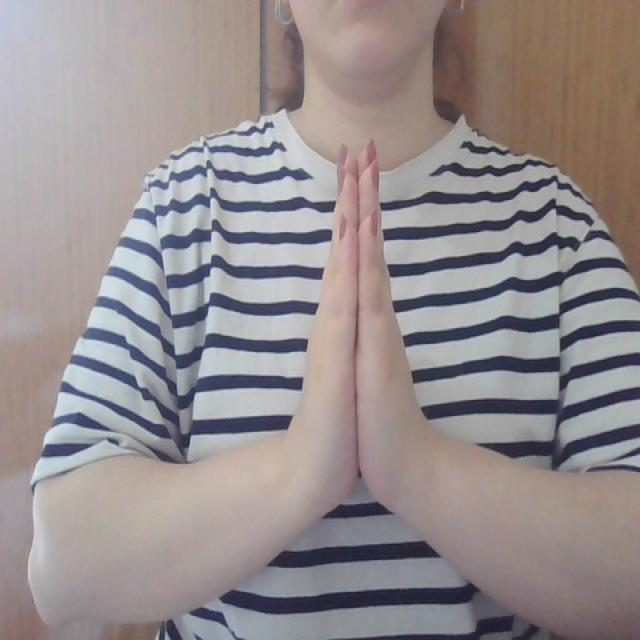Ozur-Dilemek: (286, 120, 442, 518)
